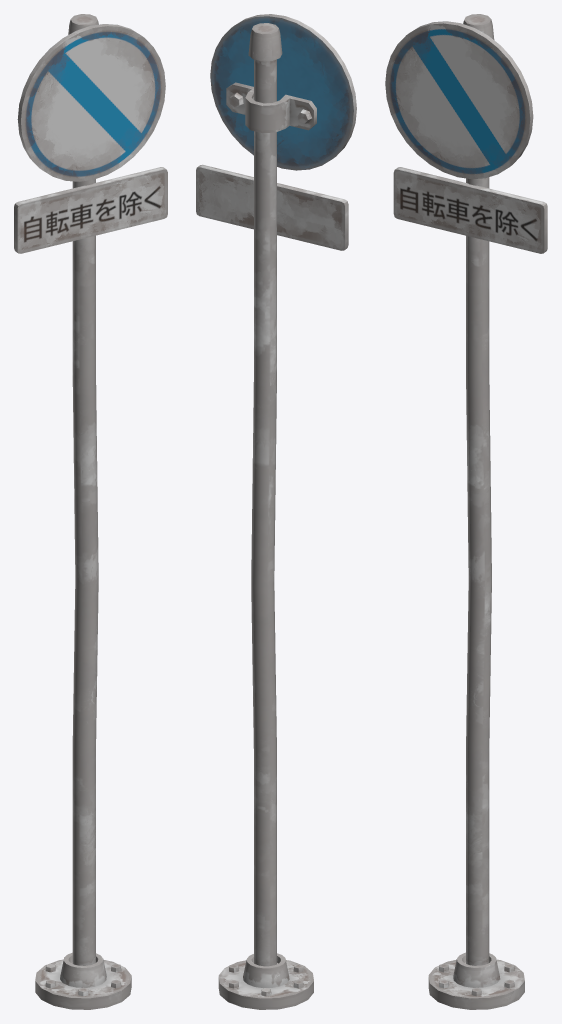
File: SM_roadsign_02.fbx
The picture shows the model from 3 angles, left to right: view 1: azimuth 30°, elevation 25°; view 2: azimuth 150°, elevation 25°; view 3: azimuth 330°, elevation 25°; orthographic projection.
Visible parts, largest first — view 1: Object32300; view 2: Object32300; view 3: Object32300.
Part boxes in pixels (left/top/right/bottom): Object32300: left=14, top=14, right=167, bottom=1009; Object32300: left=196, top=14, right=356, bottom=1009; Object32300: left=385, top=14, right=547, bottom=1009.
Size of the model in its own units: 20.69 by 126 by 11.39.
